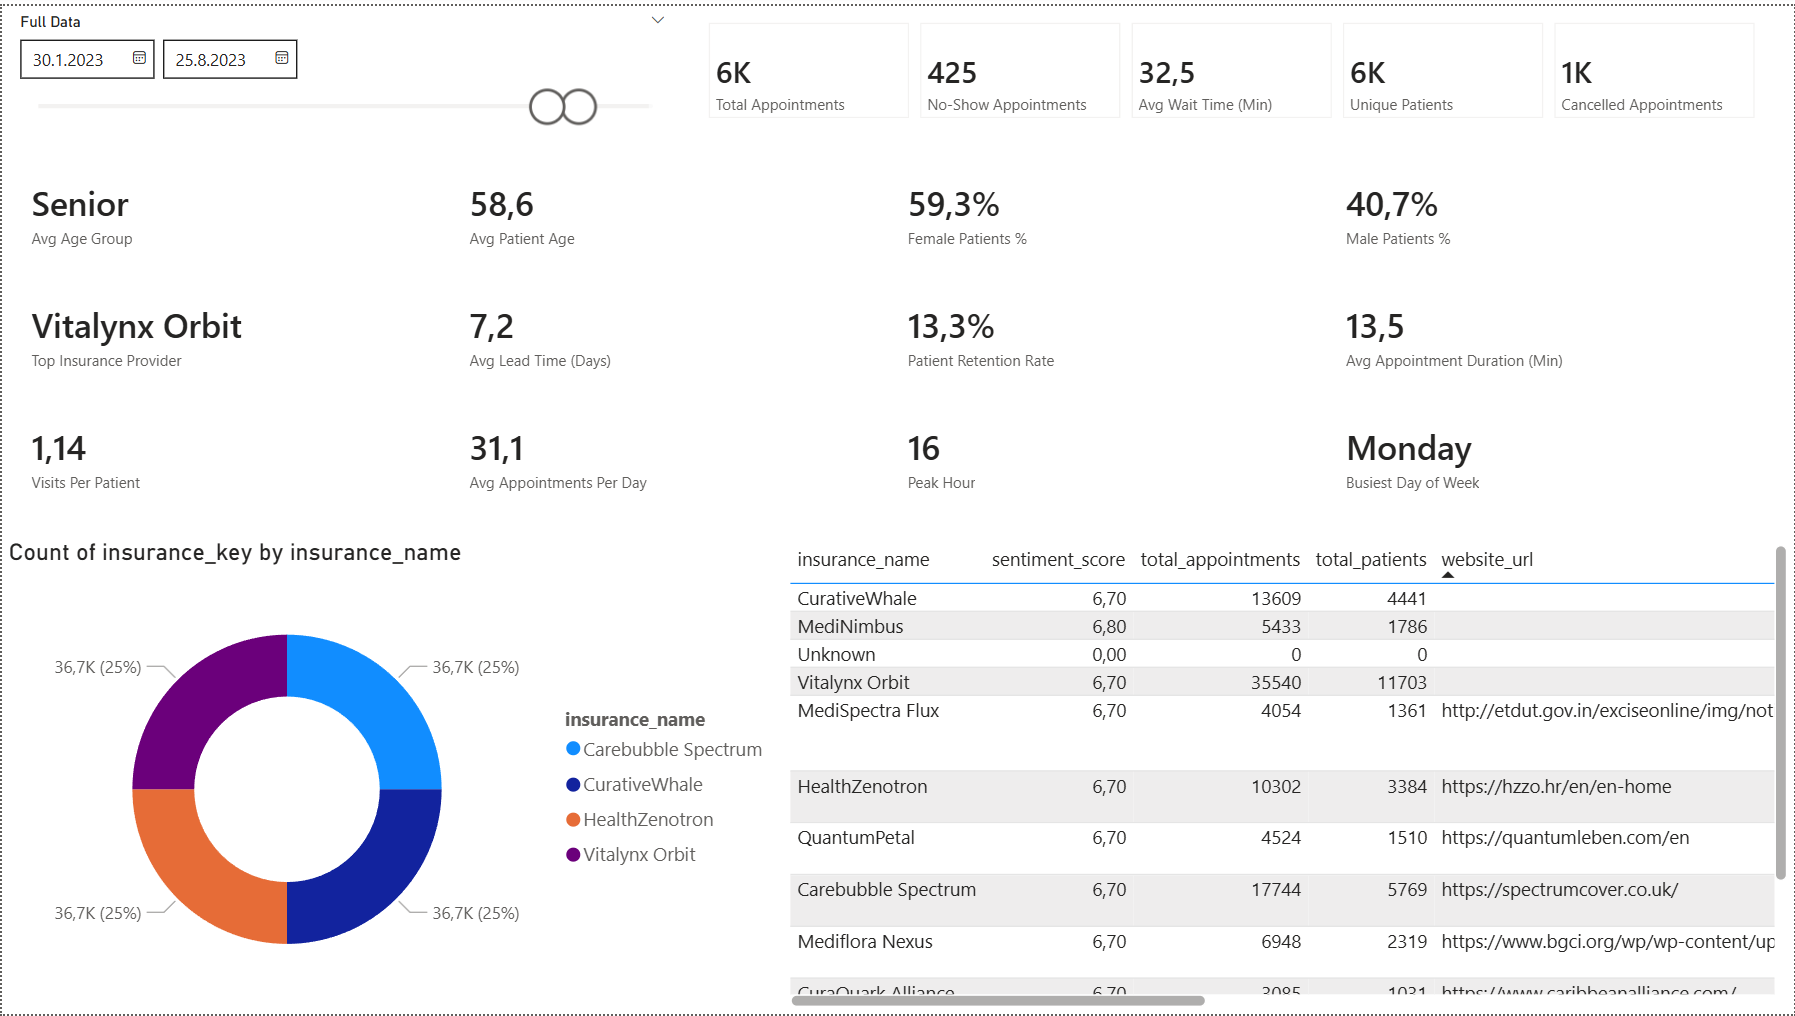

The dashboard page shown, as its layout file describes it:
{"tool":"powerbi","page":{"name":"Page 2","canvas":[1280,720],"ordinal":1},"visuals":[{"type":"cardVisual","fields":{"Data":["public fact_appointment.Avg Age Group","public fact_appointment.Avg Patient Age","public fact_appointment.Female Patients %","public fact_appointment.Male Patients %","public fact_appointment.Top Insurance Provider","public fact_appointment.Avg Lead Time (Days)","public fact_appointment.Patient Retention Rate","public fact_appointment.Avg Appointment Duration (Min)","public fact_appointment.Visits Per Patient","public fact_appointment.Avg Appointments Per Day","public fact_appointment.Peak Hour","public fact_appointment.Busiest Day of Week"]},"box":[0,92.1,1280,287.9],"z":0},{"type":"cardVisual","fields":{"Data":["public fact_appointment.Total Appointments","public fact_appointment.No-Show Appointments","public fact_appointment.Avg Wait Time (Min)","public fact_appointment.Unique Patients","public fact_appointment.Cancelled Appointments"]},"box":[493.2,-0.3,772,92.3],"z":1000},{"type":"slicer","fields":{"Values":["public dim_date.full_date"]},"box":[-0.1,-0.3,485.8,92.3],"z":2000},{"type":"donutChart","fields":{"Y":["CountNonNull(public dim_patient.insurance_key)"],"Category":["Top 4 Insurance Providers Table.insurance_name"]},"box":[0,380,557.1,340],"z":3000},{"type":"tableEx","fields":{"Values":["public dim_insurance.insurance_name","public dim_insurance.sentiment_score","public dim_insurance.total_appointments","public dim_insurance.total_patients","public dim_insurance.website_url","public dim_insurance.company_description"]},"box":[557.1,380,722.9,340],"z":4000}]}

Visuals, with their boxes in screenshot pixels (x1, y1, x2, y2), scaled from the page's 1280x720 canvas onto the 1795x1016 screenshot:
cardVisual - public fact_appointment.Avg Age Group x public fact_appointment.Avg Patient Age: detection(0, 130, 1794, 536)
cardVisual - public fact_appointment.Total Appointments x public fact_appointment.No-Show Appointments: detection(692, 0, 1774, 130)
slicer - public dim_date.full_date: detection(0, 0, 681, 130)
donutChart - CountNonNull(public dim_patient.insurance_key) x Top 4 Insurance Providers Table.insurance_name: detection(0, 536, 781, 1015)
tableEx - public dim_insurance.insurance_name x public dim_insurance.sentiment_score: detection(781, 536, 1794, 1015)
